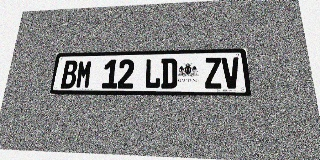1: (102, 59, 119, 88)
2: (117, 59, 134, 89)
B: (60, 60, 78, 88)
D: (161, 58, 177, 89)
L: (144, 59, 161, 89)
M: (75, 60, 93, 88)
V: (221, 57, 241, 89)
Z: (204, 57, 222, 89)
